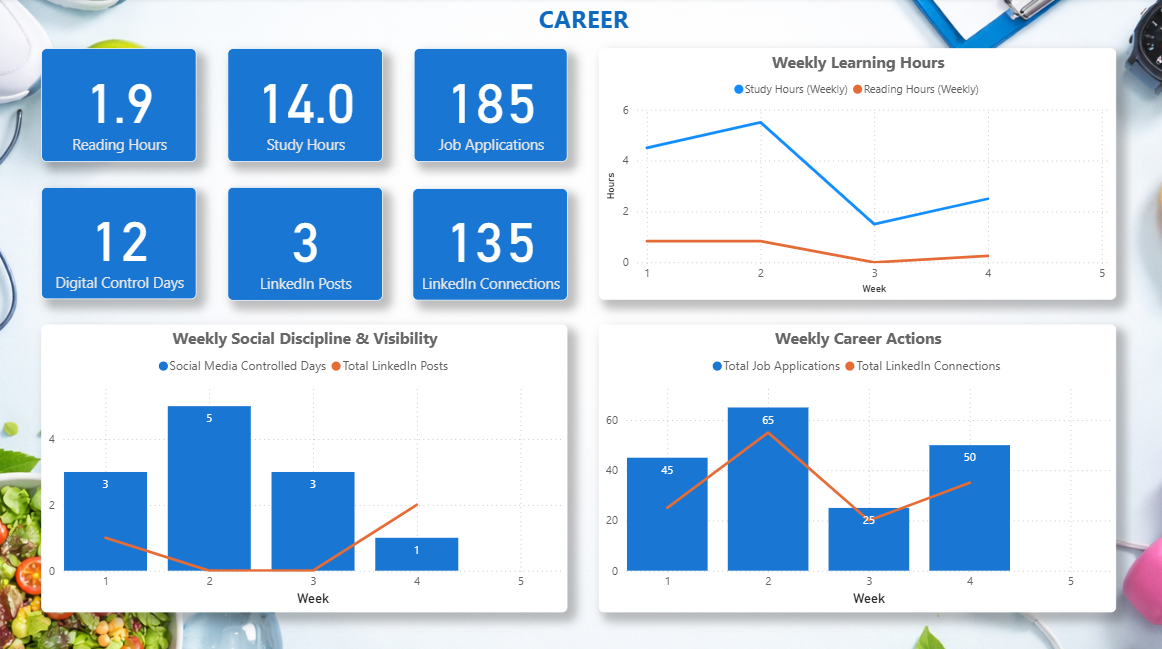

What the dashboard file says about the page in this screenshot:
{"tool":"powerbi","page":{"name":"Career","canvas":[1280,720],"ordinal":2},"visuals":[{"type":"card","fields":{"Values":["DateTable.Total Reading Hours"]},"box":[45.3,56.3,170.2,124.9],"z":0},{"type":"card","fields":{"Values":["DateTable.Total Study Hours"]},"box":[249.7,56.3,170.2,124.9],"z":1000},{"type":"card","fields":{"Values":["DateTable.Total Job Applications"]},"box":[454.2,56.3,168.8,124.9],"z":2000},{"type":"lineChart","title":"Weekly Learning Hours","fields":{"Y":["DateTable.Study Hours (Weekly)","DateTable.Reading Hours (Weekly)"],"Category":["DateTable.Week"]},"box":[657.3,56.3,568.1,275.8],"z":5000},{"type":"textbox","box":[45.3,0,1191.1,56.3],"z":6000},{"type":"card","fields":{"Values":["DateTable.Total LinkedIn Connections"]},"box":[452.8,209.9,170.2,123.5],"z":7000},{"type":"lineClusteredColumnComboChart","title":"Weekly Career Actions","fields":{"Category":["DateTable.Week"],"Y":["DateTable.Total Job Applications"],"Y2":["DateTable.Total LinkedIn Connections"]},"box":[657.3,359.5,568.1,315.6],"z":8000},{"type":"card","fields":{"Values":["DateTable.Social Media Controlled Days"]},"box":[45.3,208.6,170.2,123.5],"z":9000},{"type":"card","fields":{"Values":["DateTable.Total LinkedIn Posts"]},"box":[249.7,208.6,170.2,124.9],"z":10000},{"type":"lineClusteredColumnComboChart","title":"Weekly Social Discipline & Visibility","fields":{"Category":["DateTable.Week"],"Y":["DateTable.Social Media Controlled Days"],"Y2":["DateTable.Total LinkedIn Posts"]},"box":[45.3,359.5,577.7,315.6],"z":11000}]}

Visuals, with their boxes in screenshot pixels (x1, y1, x2, y2), scaled from the page's 1280x720 canvas onto the 1162x649 screenshot:
card - DateTable.Total Reading Hours: crop(41, 51, 196, 163)
card - DateTable.Total Study Hours: crop(227, 51, 381, 163)
card - DateTable.Total Job Applications: crop(412, 51, 566, 163)
"Weekly Learning Hours" lineChart: crop(597, 51, 1112, 299)
textbox: crop(41, 0, 1122, 51)
card - DateTable.Total LinkedIn Connections: crop(411, 189, 566, 301)
"Weekly Career Actions" lineClusteredColumnComboChart: crop(597, 324, 1112, 609)
card - DateTable.Social Media Controlled Days: crop(41, 188, 196, 299)
card - DateTable.Total LinkedIn Posts: crop(227, 188, 381, 301)
"Weekly Social Discipline & Visibility" lineClusteredColumnComboChart: crop(41, 324, 566, 609)
